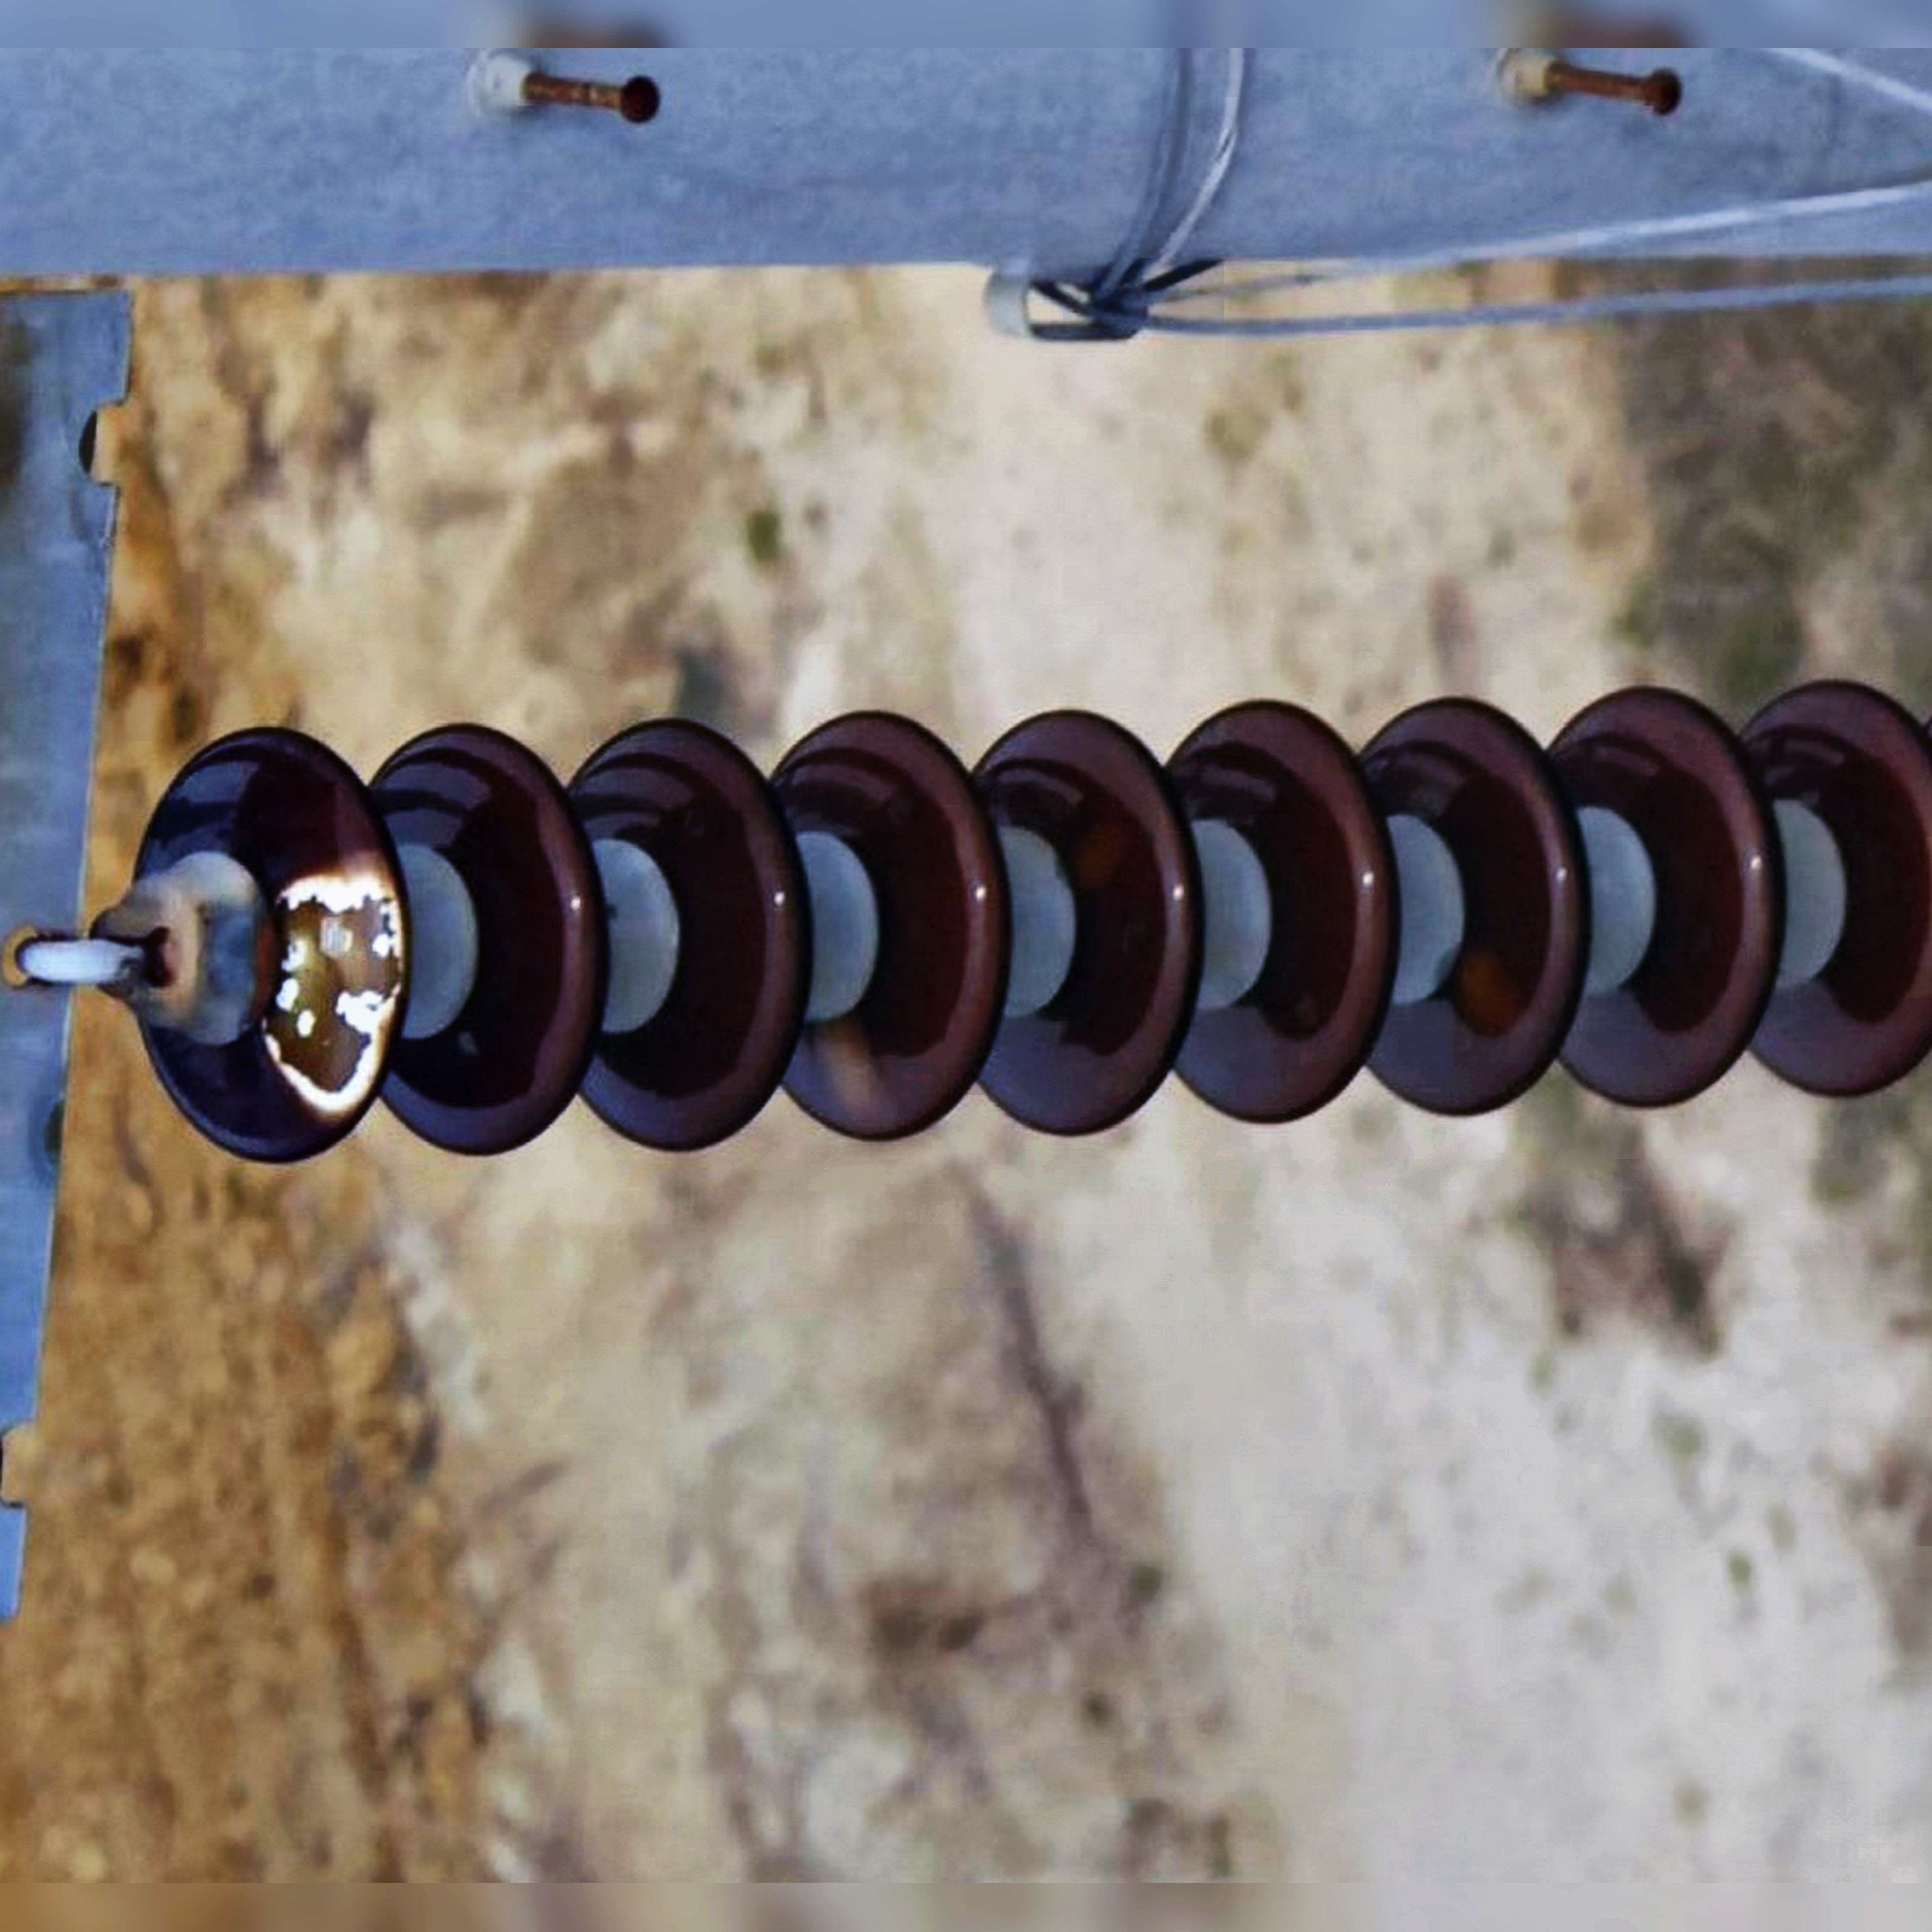Insulator flashover: (110, 702, 432, 1201)
